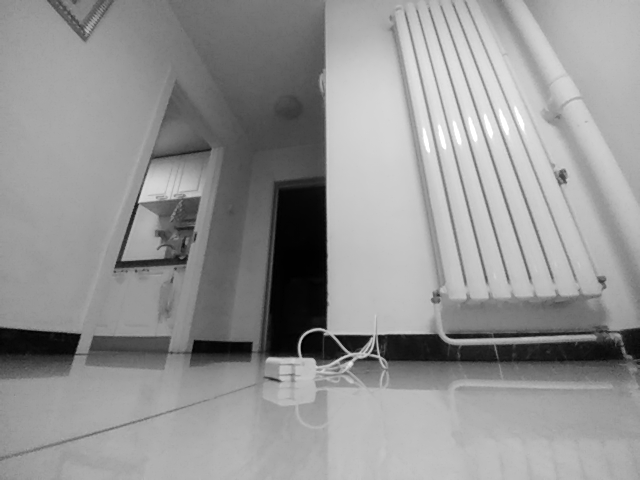wire: (298, 313, 390, 376)
